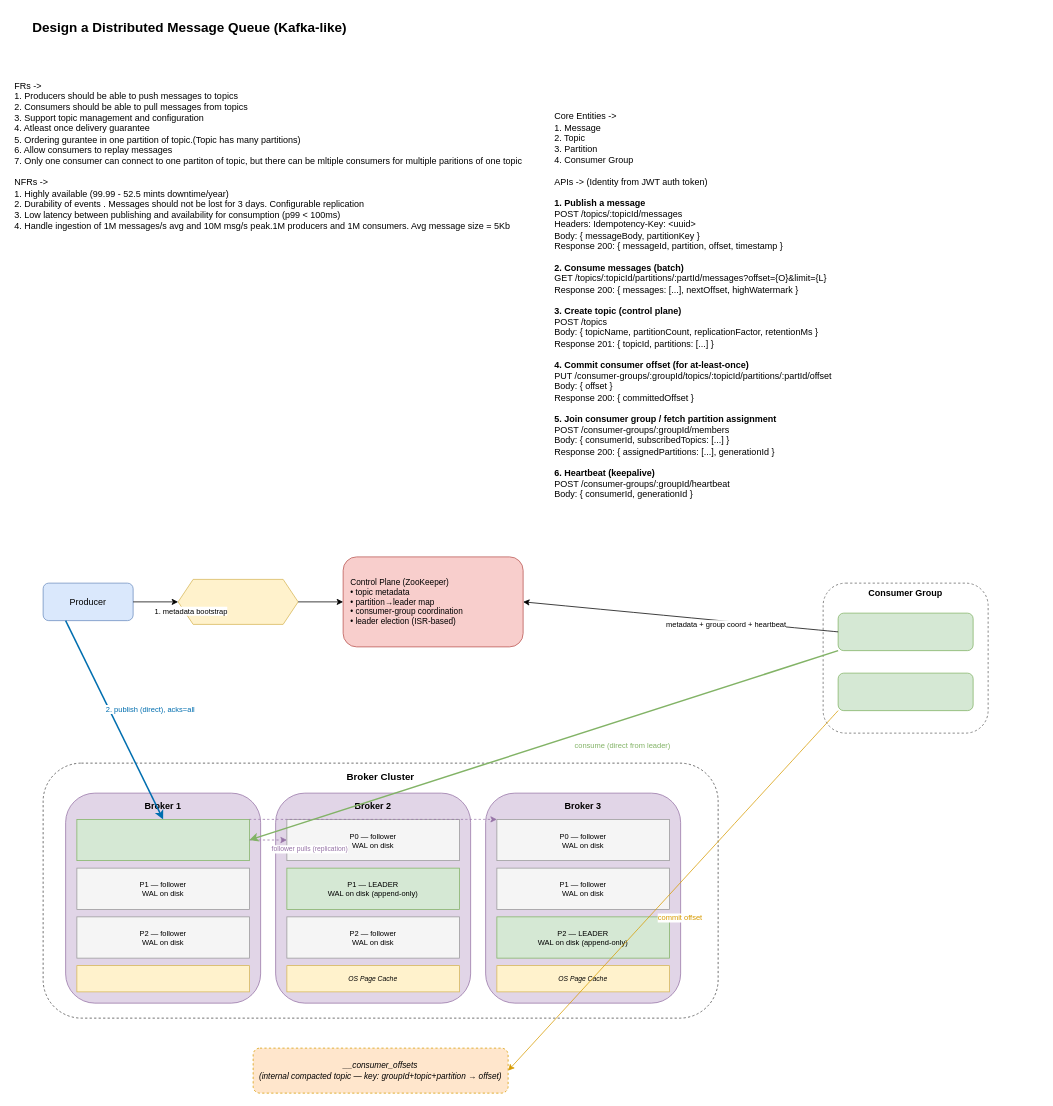
Image size: 1053x1106. Some labels were removed from this diagram. Here are the shapes that lost their labels. From the top down, the centre of each, then its label:
(237,601): Load Balancer (control plane bootstrap)
(905,631): Consumer 1 (reads P0)
(905,691): Consumer 2 (reads P1, P2)
(162,840): P0 — LEADER WAL on disk (append-only)
(162,978): OS Page Cache (zero-copy reads)
